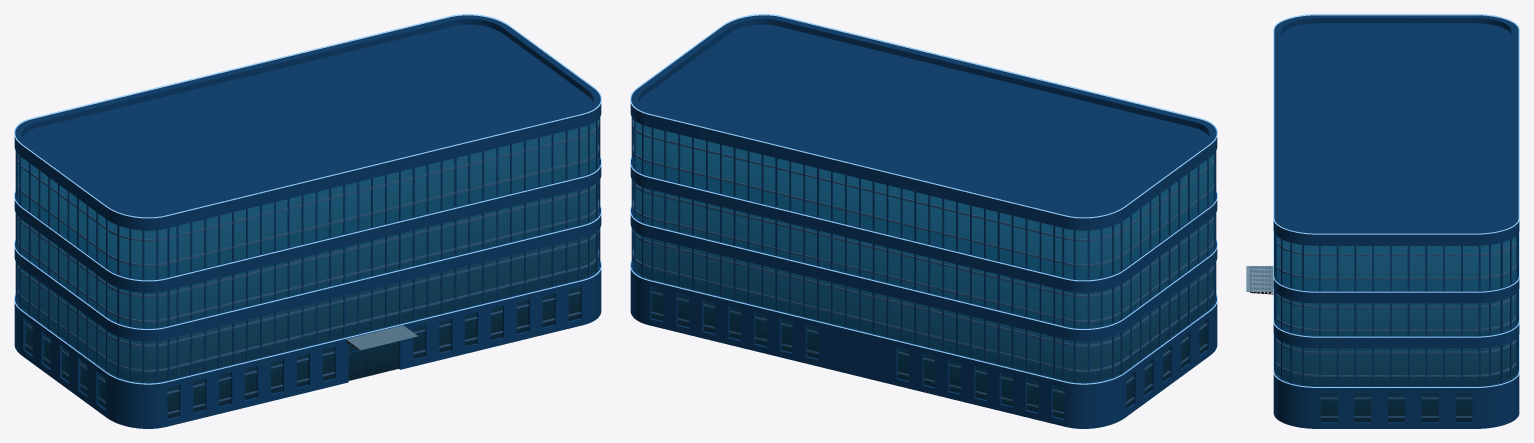
3 renders of one model, left to right at view 1: azimuth 30°, elevation 25°; view 2: azimuth 150°, elevation 25°; view 3: azimuth 270°, elevation 25°, orthographic. The views are drawn at different scales.
Parts seen in each view (by area): view 1: 科技_副楼; view 2: 科技_副楼; view 3: 科技_副楼.
Part boxes in pixels (<box>): 科技_副楼: <box>14,14,601,428</box>; 科技_副楼: <box>630,14,1217,428</box>; 科技_副楼: <box>1246,14,1519,428</box>.
Bounding box in the file's own units: 30.68 × 12.75 × 16.14.
